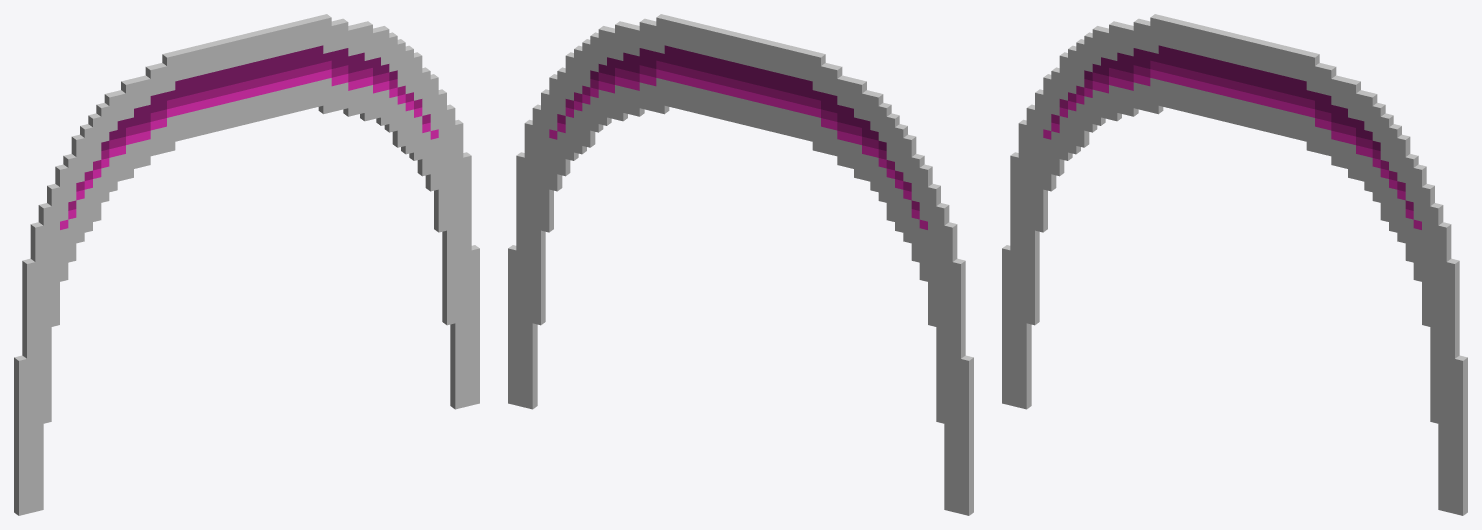
File: GoalPost.obj
3 renders of one model, left to right at view 1: azimuth 30°, elevation 25°; view 2: azimuth 150°, elevation 25°; view 3: azimuth 330°, elevation 25°, orthographic.
Visible parts, largest first — view 1: GoalPost; view 2: GoalPost; view 3: GoalPost.
Boxes of the visible parts, left/top/right/bottom form: GoalPost: left=14, top=14, right=479, bottom=515; GoalPost: left=508, top=14, right=973, bottom=515; GoalPost: left=1002, top=14, right=1467, bottom=515.
Size of the model in its own units: 56 by 49 by 1.
Materials: 1 (1 with a texture image).
